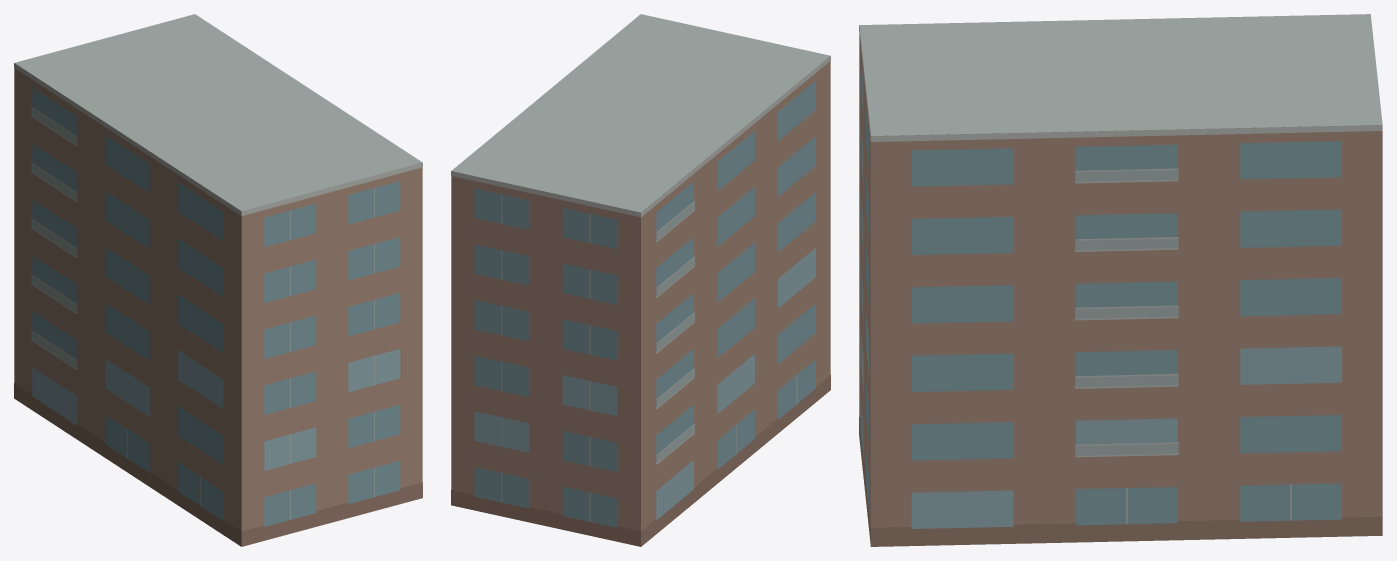
Rendered from survey-upis-32699811.glb.
The picture shows the model from 3 angles, left to right: view 1: azimuth 30°, elevation 25°; view 2: azimuth 150°, elevation 25°; view 3: azimuth 270°, elevation 25°; orthographic projection. The views are drawn at different scales.
Parts seen in each view (by area): view 1: survey-upis-32699811.tmp; view 2: survey-upis-32699811.tmp; view 3: survey-upis-32699811.tmp.
Boxes of the visible parts, x1,y1,x2,y2 form: survey-upis-32699811.tmp: (14,14,422,546); survey-upis-32699811.tmp: (451,14,830,546); survey-upis-32699811.tmp: (859,14,1382,546).
Bounding box in the file's own units: 10.65 × 16.7 × 19.3.
